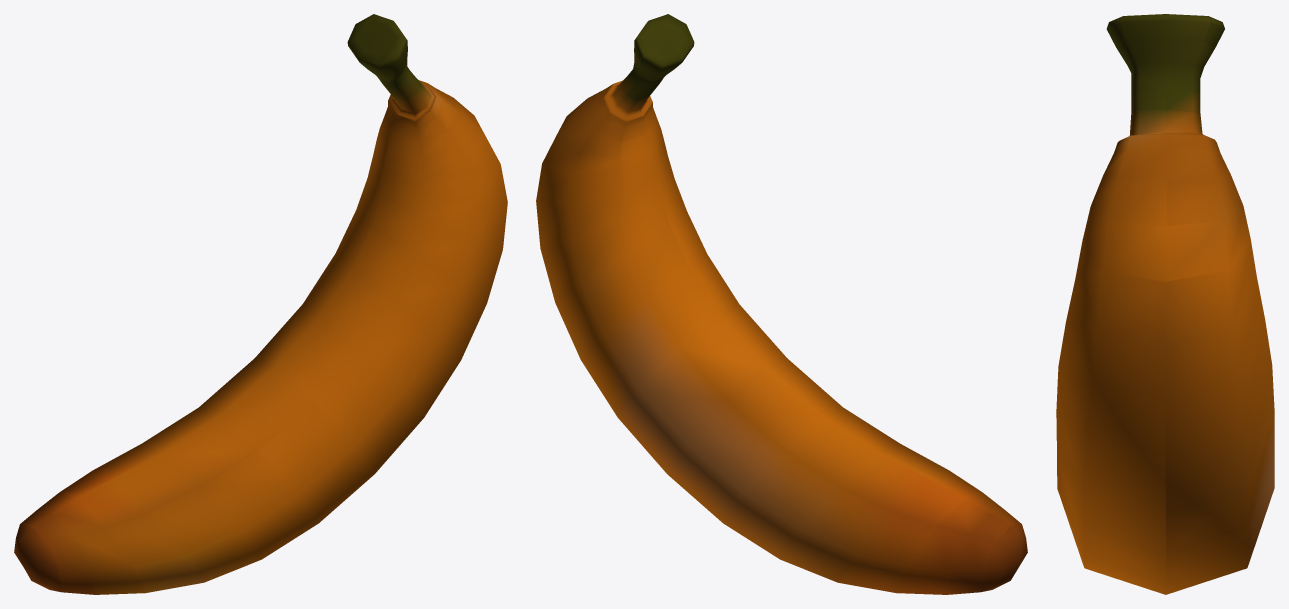
The model's file is banana_AloneGeo.fbx.
3 views of the same model, side by side, from view 1: azimuth 30°, elevation 25°; view 2: azimuth 150°, elevation 25°; view 3: azimuth 270°, elevation 25° (orthographic). The views are drawn at different scales.
Parts seen in each view (by area): view 1: banana_geo1; view 2: banana_geo1; view 3: banana_geo1.
Boxes of the visible parts, left/top/right/bottom form: banana_geo1: left=14, top=14, right=507, bottom=594; banana_geo1: left=536, top=14, right=1027, bottom=594; banana_geo1: left=1056, top=14, right=1274, bottom=594.
Bounding box in the file's own units: 14.33 × 14.46 × 4.15.
